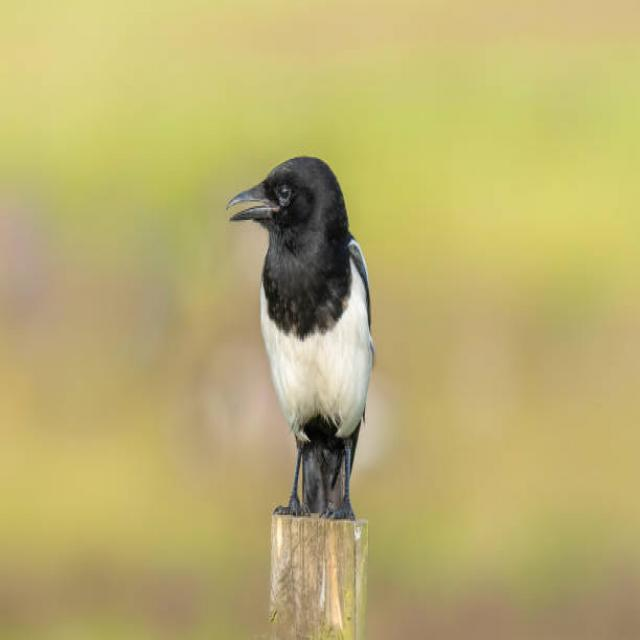Magpie: (224, 153, 378, 517)
